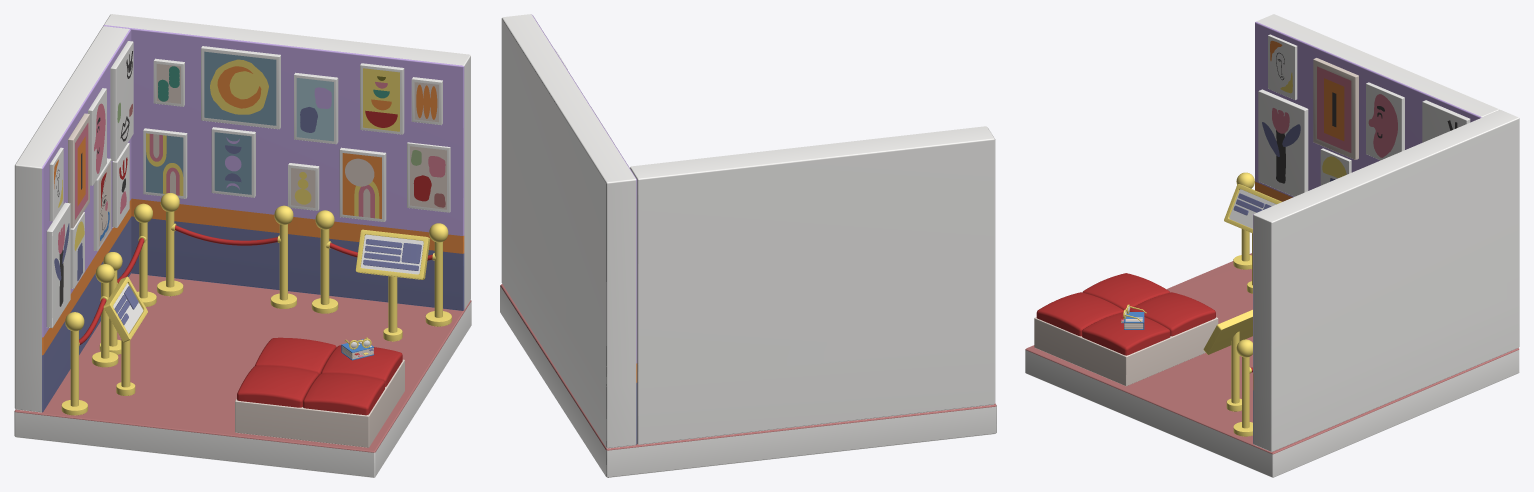
File: Art_Galery_4.glb
3 renders of one model, left to right at view 1: azimuth 30°, elevation 25°; view 2: azimuth 150°, elevation 25°; view 3: azimuth 270°, elevation 25°, orthographic. The views are drawn at different scales.
Parts seen in each view (by area): view 1: Art_Galery_Wall_1, Art_Galery_Floor_1, Art_Galery_Wall_2, Art_Galery_Puff_1, Art_Galery_Painting_7, Art_Galery_Label_2, Art_Galery_Painting_10, Art_Galery_Fence_2, Art_Galery_Painting_15, Art_Galery_Painting_16, Art_Galery_Painting_9, Art_Galery_Painting_18 (+16 smaller); view 2: Art_Galery_Wall_2, Art_Galery_Wall_1, Art_Galery_Floor_1; view 3: Art_Galery_Wall_1, Art_Galery_Floor_1, Art_Galery_Puff_1, Art_Galery_Wall_2, Art_Galery_Painting_14, Art_Galery_Painting_1, Art_Galery_Painting_12, Art_Galery_Label_2, Art_Galery_Painting_6, Art_Galery_Label_1, Art_Galery_Painting_8, Art_Galery_Fence_1 (+2 smaller).
Boxes of the visible parts, box(x1,y1,x2,y2) form: Art_Galery_Wall_1: box(103, 14, 470, 310); Art_Galery_Floor_1: box(14, 273, 471, 477); Art_Galery_Wall_2: box(14, 26, 131, 412); Art_Galery_Puff_1: box(235, 337, 404, 447); Art_Galery_Painting_7: box(201, 46, 280, 129); Art_Galery_Label_2: box(355, 229, 429, 341); Art_Galery_Painting_10: box(339, 147, 386, 221); Art_Galery_Fence_2: box(157, 193, 296, 308); Art_Galery_Painting_15: box(360, 63, 404, 134); Art_Galery_Painting_16: box(294, 72, 338, 144); Art_Galery_Painting_9: box(211, 127, 255, 197); Art_Galery_Painting_18: box(143, 128, 187, 198); Art_Galery_Wall_2: box(630, 126, 995, 444); Art_Galery_Wall_1: box(501, 14, 637, 448); Art_Galery_Floor_1: box(500, 284, 996, 477); Art_Galery_Wall_1: box(1253, 110, 1519, 451); Art_Galery_Floor_1: box(1025, 253, 1519, 477); Art_Galery_Puff_1: box(1034, 273, 1218, 386); Art_Galery_Wall_2: box(1255, 14, 1499, 201); Art_Galery_Painting_14: box(1258, 89, 1308, 196); Art_Galery_Painting_1: box(1313, 58, 1358, 159); Art_Galery_Painting_12: box(1366, 82, 1404, 160); Art_Galery_Label_2: box(1203, 309, 1252, 411); Art_Galery_Painting_6: box(1268, 34, 1297, 99); Art_Galery_Label_1: box(1224, 184, 1281, 293); Art_Galery_Painting_8: box(1422, 100, 1470, 142); Art_Galery_Fence_1: box(1233, 339, 1252, 436).
Bounding box in the file's own units: 7.04 × 4.02 × 7.03.
1 material, 1 textured.
